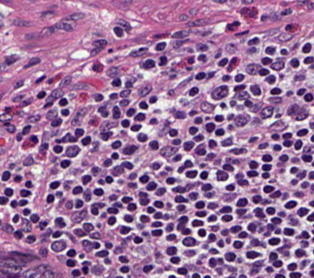nucleus: (47, 88, 63, 102), (72, 108, 86, 124), (212, 85, 227, 99), (24, 57, 40, 68), (160, 146, 177, 156), (130, 47, 147, 56), (100, 121, 115, 131), (54, 22, 72, 30), (261, 106, 273, 118), (234, 115, 247, 126), (187, 19, 207, 26), (246, 64, 260, 74), (64, 13, 83, 20), (59, 76, 71, 87), (66, 146, 79, 156), (172, 30, 188, 38), (40, 27, 54, 36), (178, 77, 190, 87), (138, 86, 150, 96), (201, 102, 213, 112), (5, 55, 18, 64), (228, 57, 237, 70), (106, 67, 119, 76), (123, 145, 136, 154), (118, 21, 130, 30), (13, 19, 28, 26), (93, 39, 106, 47), (250, 85, 260, 95), (46, 110, 56, 120), (143, 59, 154, 68), (112, 166, 123, 175), (98, 107, 108, 116), (196, 145, 205, 155), (217, 171, 227, 180), (91, 47, 102, 55), (237, 92, 248, 100), (271, 62, 283, 69), (113, 106, 120, 118), (113, 27, 122, 36), (184, 141, 193, 150), (120, 89, 130, 97), (51, 118, 61, 126), (101, 132, 111, 140), (222, 138, 232, 146), (23, 157, 33, 165), (237, 198, 247, 206), (268, 97, 281, 103), (172, 186, 185, 192), (28, 115, 39, 122), (272, 121, 283, 128), (156, 42, 165, 50), (226, 44, 235, 52), (218, 58, 227, 66), (93, 63, 102, 71), (266, 75, 275, 83), (14, 80, 23, 88), (189, 87, 198, 95), (251, 103, 260, 111), (82, 136, 90, 145), (149, 141, 158, 149), (53, 145, 62, 153), (147, 182, 156, 190), (73, 186, 82, 194), (265, 46, 275, 53), (258, 68, 268, 75), (175, 111, 185, 118), (231, 149, 245, 154), (122, 161, 132, 168), (223, 164, 233, 171), (186, 170, 196, 177), (84, 190, 90, 201), (175, 196, 186, 202), (121, 119, 129, 127), (206, 123, 214, 131), (75, 128, 83, 136), (82, 175, 90, 183), (159, 56, 166, 65), (262, 57, 271, 64), (196, 72, 205, 79), (135, 113, 144, 120), (22, 125, 29, 134), (137, 134, 146, 141), (61, 160, 70, 167), (2, 171, 9, 180), (50, 181, 59, 188), (202, 183, 211, 190), (156, 188, 165, 195), (195, 201, 204, 208), (248, 38, 258, 44), (174, 41, 184, 47), (234, 85, 244, 91), (13, 95, 23, 101), (263, 186, 273, 192), (270, 191, 280, 197), (248, 9, 256, 16), (235, 74, 243, 81), (36, 76, 44, 83), (112, 79, 120, 86), (37, 91, 45, 98), (59, 98, 67, 105), (120, 99, 128, 106), (244, 100, 252, 107), (126, 109, 134, 116), (189, 127, 197, 134), (169, 129, 177, 136), (62, 134, 70, 141), (112, 141, 120, 148), (103, 159, 111, 166), (249, 161, 257, 168), (200, 171, 207, 179), (140, 175, 148, 182), (166, 177, 174, 184), (5, 188, 12, 196), (189, 192, 197, 199), (253, 195, 260, 203), (75, 199, 82, 207), (65, 201, 72, 209), (41, 12, 52, 17), (198, 44, 207, 50), (271, 88, 280, 94), (194, 135, 203, 141), (262, 155, 271, 161), (262, 164, 271, 170), (238, 179, 247, 185), (94, 189, 103, 195), (20, 190, 29, 196), (122, 196, 131, 202), (154, 201, 163, 207), (131, 125, 141, 130), (247, 171, 257, 176), (95, 94, 102, 101), (7, 125, 14, 132), (209, 140, 216, 147), (0, 197, 7, 204), (215, 115, 223, 121), (172, 139, 180, 145), (173, 155, 181, 161), (184, 160, 192, 166), (226, 184, 234, 190), (226, 194, 234, 200), (140, 198, 148, 204), (236, 31, 247, 35), (93, 203, 104, 207), (227, 24, 234, 30), (198, 54, 205, 60), (110, 93, 117, 99), (140, 102, 147, 108), (61, 109, 68, 115), (195, 117, 202, 123), (216, 129, 223, 135), (207, 153, 214, 159), (152, 163, 159, 169), (92, 167, 98, 174), (262, 172, 269, 178), (129, 173, 136, 179), (25, 181, 32, 187), (47, 195, 53, 202), (19, 199, 26, 205), (179, 15, 187, 20), (22, 100, 30, 105), (249, 137, 257, 142), (259, 143, 267, 148), (205, 192, 213, 197), (31, 136, 37, 142), (41, 143, 47, 149), (178, 166, 184, 172), (236, 173, 242, 179), (106, 176, 112, 182), (241, 9, 248, 14), (222, 75, 229, 80), (14, 176, 21, 181), (139, 192, 146, 197), (109, 195, 116, 200), (11, 200, 16, 207), (247, 48, 255, 52), (44, 103, 52, 107), (128, 183, 136, 187), (215, 51, 220, 57), (188, 57, 193, 63), (125, 82, 131, 87), (150, 97, 156, 102), (190, 110, 196, 115), (272, 134, 278, 139), (70, 136, 76, 141), (274, 145, 280, 150), (112, 153, 118, 158), (243, 0, 252, 3), (208, 72, 213, 77), (230, 100, 235, 105), (5, 107, 10, 112), (228, 114, 233, 119), (98, 179, 103, 184), (190, 9, 196, 13), (150, 119, 156, 123), (168, 90, 173, 94), (17, 135, 21, 140), (56, 192, 61, 196), (48, 79, 52, 83), (221, 103, 225, 107), (166, 167, 171, 170)
